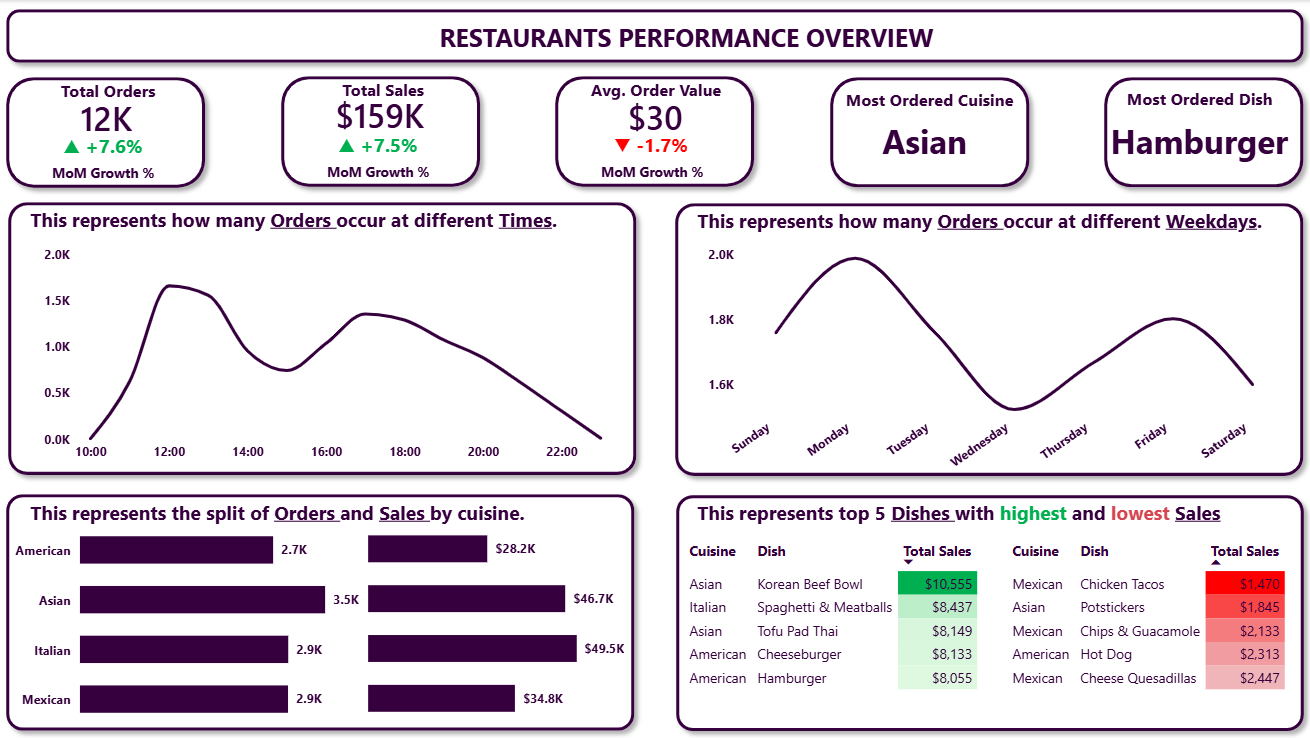

The page's visual inventory and layout, read from the dashboard file:
{"tool":"powerbi","page":{"name":"Page 1","canvas":[1280,720],"ordinal":0},"visuals":[{"type":"shape","box":[267.2,65.1,211.4,125.4],"z":0,"group":"g4"},{"type":"shape","box":[534,65.5,211.4,125.4],"z":0,"group":"g5"},{"type":"shape","box":[0,66.5,211.4,125.4],"z":0,"group":"g1"},{"type":"shape","box":[801.2,66.5,211.7,125],"z":0,"group":"g6"},{"type":"shape","box":[2,188,628.9,283.2],"z":0,"group":"g2"},{"type":"shape","box":[651.1,188.5,628.9,283.2],"z":0,"group":"g9"},{"type":"shape","box":[0,471.7,628.9,247.9],"z":0,"group":"g3"},{"type":"shape","box":[651.6,472.7,628.4,247.4],"z":0},{"type":"shape","box":[0,0,1280,70],"z":1000},{"type":"card","fields":{"Values":["Measures Table.Most Ordered Cuisine"]},"box":[801.2,96.7,201.6,82.6],"z":1000,"group":"g6"},{"type":"textbox","box":[410,14.3,520,41.8],"z":2000},{"type":"textbox","box":[817.3,80.6,178.4,31.2],"z":2000,"group":"g6"},{"type":"group","id":"g1","title":"Group 1","box":[0,66.5,211.7,125],"z":3000},{"type":"textbox","box":[28.8,72.1,158.2,30.9],"z":3000,"group":"g1"},{"type":"textbox","box":[296,70.7,158.2,30.9],"z":4000,"group":"g4"},{"type":"group","id":"g2","title":"Group 2","box":[2,188,628.9,283.2],"z":4000},{"type":"cardVisual","fields":{"Data":["Measures Table.MoM Sales Indicator"]},"box":[295,112.4,150,53.3],"z":5000,"group":"g4"},{"type":"cardVisual","fields":{"Data":["Measures Table.MoM Indicator"]},"box":[27.8,113.8,150,53.3],"z":5000,"group":"g1"},{"type":"group","id":"g3","title":"Group 3","box":[0,471.7,628.9,247.9],"z":5000},{"type":"group","id":"g4","title":"Group 5","box":[267.2,65.1,211.4,125.4],"z":6000},{"type":"textbox","box":[562.8,71.1,158.2,30.9],"z":6000,"group":"g7"},{"type":"cardVisual","fields":{"Data":["Measures Table.Total Sales"]},"box":[277.4,80.8,190.5,58.5],"z":6000,"group":"g4"},{"type":"group","id":"g5","title":"Group 6","box":[534,65.5,211.7,126],"z":7000},{"type":"textbox","box":[315,152.4,111.1,34.4],"z":7000,"group":"g4"},{"type":"group","id":"g6","title":"Group 7","box":[801.2,66.5,211.7,125],"z":8000},{"type":"group","id":"g7","title":"Group 4","box":[545.1,71.1,191.1,116.2],"z":8000,"group":"g5"},{"type":"cardVisual","fields":{"Data":["Measures Table.Total Orders"]},"box":[11.1,84.9,191.1,57.8],"z":8000,"group":"g1"},{"type":"cardVisual","fields":{"Data":["Measures Table.MoM Avg. Indicator"]},"box":[561.8,112.8,150,53.3],"z":8000,"group":"g7"},{"type":"group","id":"g8","title":"Group 8","box":[1068.3,66.5,211.7,125],"z":9000},{"type":"shape","box":[1068.3,66.5,211.7,125],"z":9000,"group":"g8"},{"type":"textbox","box":[47.8,153.8,111.1,34.4],"z":9000,"group":"g1"},{"type":"lineChart","title":"This represents how many orders occur at different times.","fields":{"Y":["Measures Table.Total Orders"],"Category":["DateTable.Day Name"]},"box":[687.3,233.3,570.5,241.9],"z":9000,"group":"g9"},{"type":"lineChart","title":"This represents how many orders occur at different times.","fields":{"Category":["order_details.Start of Hour"],"Y":["Measures Table.Total Orders"]},"box":[41.3,233.4,567.4,223.7],"z":9000,"group":"g2"},{"type":"card","fields":{"Values":["Measures Table.Most Order Item"]},"box":[1077.4,96.7,185.4,82.6],"z":10000,"group":"g8"},{"type":"group","id":"g9","title":"Group 2","box":[651.1,188.5,628.9,286.2],"z":10000},{"type":"textbox","box":[1081.3,80.5,178.4,31.2],"z":11000,"group":"g8"},{"type":"cardVisual","fields":{"Data":["Measures Table.Avg. Order Value"]},"box":[545.1,83.9,191.1,57.8],"z":11000,"group":"g7"},{"type":"tableEx","fields":{"Values":["menu_items.category","menu_items.item_name","Measures Table.Total Sales"]},"box":[662.2,518.5,303.4,164.3],"z":11000},{"type":"tableEx","fields":{"Values":["menu_items.category","menu_items.item_name","Measures Table.Total Sales"]},"box":[976.6,518.5,303.4,164.3],"z":12000},{"type":"textbox","box":[581.8,152.8,111.1,34.4],"z":13000,"group":"g7"},{"type":"textbox","box":[27.2,196.1,581.5,38.3],"z":15000,"group":"g2"},{"type":"textbox","box":[676.3,196.6,581.5,38.3],"z":15000,"group":"g9"},{"type":"clusteredBarChart","fields":{"Category":["menu_items.category"],"Y":["Measures Table.Total Orders"]},"box":[12.1,488.8,345.7,230.8],"z":15000,"group":"g3"},{"type":"textbox","box":[27.2,480.8,509,38.3],"z":16000,"group":"g3"},{"type":"textbox","box":[676,480.9,587.7,38.3],"z":16000},{"type":"clusteredBarChart","fields":{"Category":["menu_items.category"],"Y":["Measures Table.Total Sales"]},"box":[355.8,508,259,192.5],"z":17000,"group":"g3"}]}

Visuals, with their boxes in screenshot pixels (x1, y1, x2, y2), scaled from the page's 1280x720 canvas onto the 1310x738 screenshot:
shape: pyautogui.locateOnScreen(273, 67, 490, 195)
shape: pyautogui.locateOnScreen(547, 67, 763, 196)
shape: pyautogui.locateOnScreen(0, 68, 216, 197)
shape: pyautogui.locateOnScreen(820, 68, 1037, 196)
shape: pyautogui.locateOnScreen(2, 193, 646, 483)
shape: pyautogui.locateOnScreen(666, 193, 1309, 483)
shape: pyautogui.locateOnScreen(0, 483, 644, 737)
shape: pyautogui.locateOnScreen(667, 485, 1309, 737)
shape: pyautogui.locateOnScreen(0, 0, 1309, 72)
card - Measures Table.Most Ordered Cuisine: pyautogui.locateOnScreen(820, 99, 1026, 184)
textbox: pyautogui.locateOnScreen(420, 15, 952, 58)
textbox: pyautogui.locateOnScreen(836, 83, 1019, 115)
"Group 1" group: pyautogui.locateOnScreen(0, 68, 217, 196)
textbox: pyautogui.locateOnScreen(29, 74, 191, 106)
textbox: pyautogui.locateOnScreen(303, 72, 465, 104)
"Group 2" group: pyautogui.locateOnScreen(2, 193, 646, 483)
cardVisual - Measures Table.MoM Sales Indicator: pyautogui.locateOnScreen(302, 115, 455, 170)
cardVisual - Measures Table.MoM Indicator: pyautogui.locateOnScreen(28, 117, 182, 171)
"Group 3" group: pyautogui.locateOnScreen(0, 483, 644, 737)
"Group 5" group: pyautogui.locateOnScreen(273, 67, 490, 195)
textbox: pyautogui.locateOnScreen(576, 73, 738, 105)
cardVisual - Measures Table.Total Sales: pyautogui.locateOnScreen(284, 83, 479, 143)
"Group 6" group: pyautogui.locateOnScreen(547, 67, 763, 196)
textbox: pyautogui.locateOnScreen(322, 156, 436, 191)
"Group 7" group: pyautogui.locateOnScreen(820, 68, 1037, 196)
"Group 4" group: pyautogui.locateOnScreen(558, 73, 753, 192)
cardVisual - Measures Table.Total Orders: pyautogui.locateOnScreen(11, 87, 207, 146)
cardVisual - Measures Table.MoM Avg. Indicator: pyautogui.locateOnScreen(575, 116, 728, 170)
"Group 8" group: pyautogui.locateOnScreen(1093, 68, 1309, 196)
shape: pyautogui.locateOnScreen(1093, 68, 1309, 196)
textbox: pyautogui.locateOnScreen(49, 158, 163, 193)
"This represents how many orders occur at different times." lineChart: pyautogui.locateOnScreen(703, 239, 1287, 487)
"This represents how many orders occur at different times." lineChart: pyautogui.locateOnScreen(42, 239, 623, 469)
card - Measures Table.Most Order Item: pyautogui.locateOnScreen(1103, 99, 1292, 184)
"Group 2" group: pyautogui.locateOnScreen(666, 193, 1309, 487)
textbox: pyautogui.locateOnScreen(1107, 83, 1289, 114)
cardVisual - Measures Table.Avg. Order Value: pyautogui.locateOnScreen(558, 86, 753, 145)
tableEx - menu_items.category x menu_items.item_name: pyautogui.locateOnScreen(678, 531, 988, 700)
tableEx - menu_items.category x menu_items.item_name: pyautogui.locateOnScreen(999, 531, 1309, 700)
textbox: pyautogui.locateOnScreen(595, 157, 709, 192)
textbox: pyautogui.locateOnScreen(28, 201, 623, 240)
textbox: pyautogui.locateOnScreen(692, 202, 1287, 241)
clusteredBarChart - menu_items.category x Measures Table.Total Orders: pyautogui.locateOnScreen(12, 501, 366, 737)
textbox: pyautogui.locateOnScreen(28, 493, 549, 532)
textbox: pyautogui.locateOnScreen(692, 493, 1293, 532)
clusteredBarChart - menu_items.category x Measures Table.Total Sales: pyautogui.locateOnScreen(364, 521, 629, 718)
